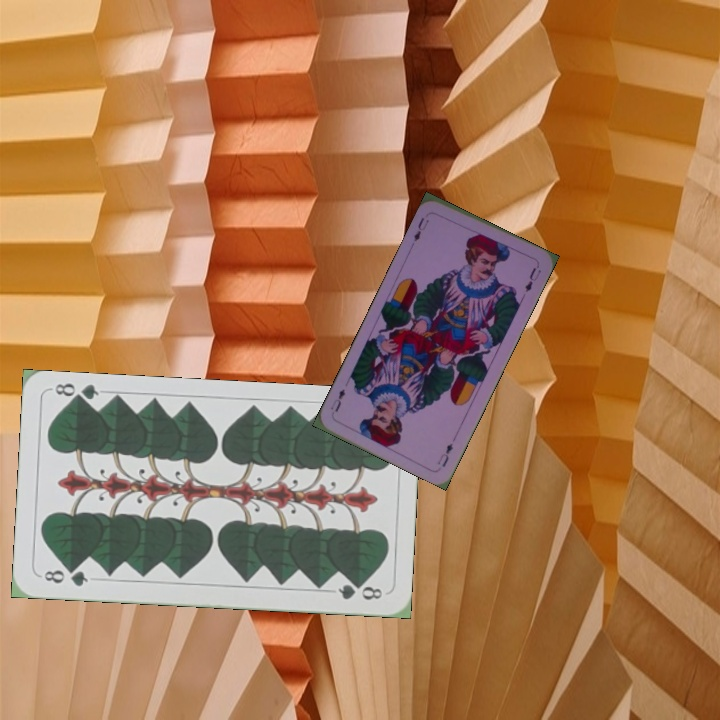EU: (408, 213, 431, 247), (433, 439, 456, 470)
G8: (40, 564, 91, 589)
